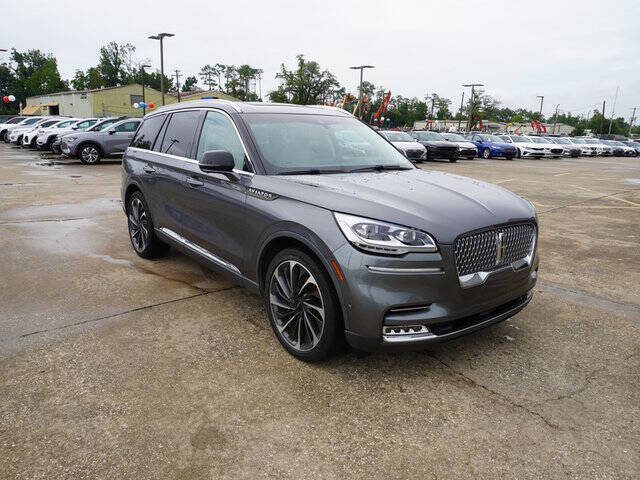car: (118, 92, 544, 365)
